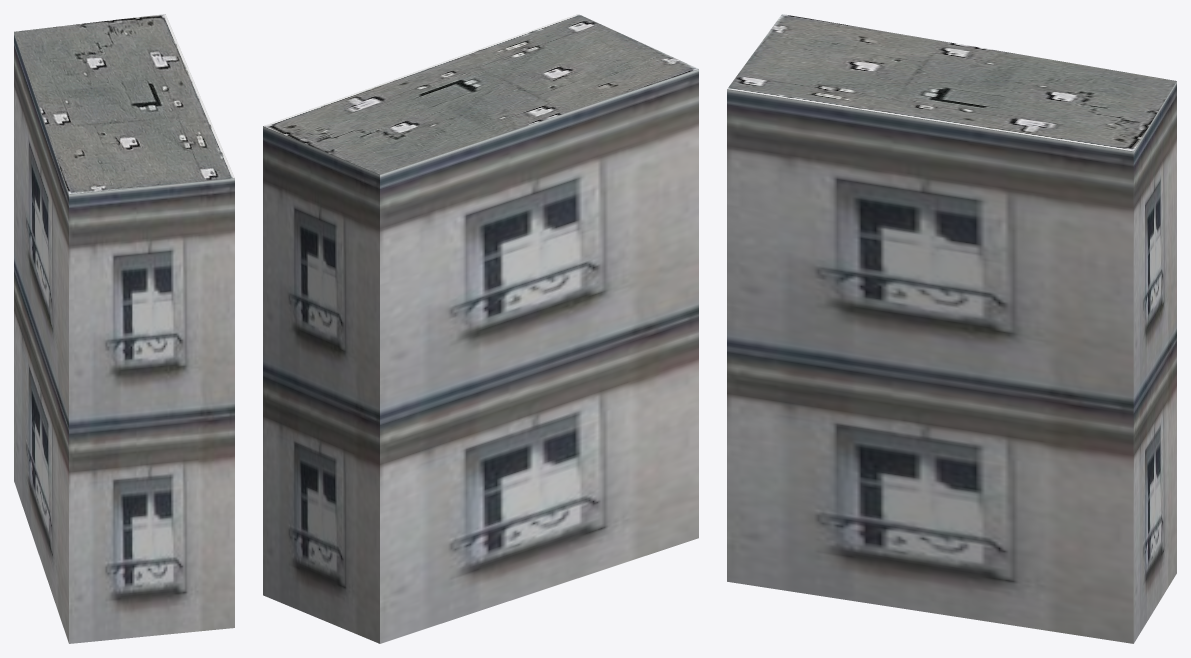
The model's file is RelTex__20.fbx.
3 views of the same model, side by side, from view 1: azimuth 30°, elevation 25°; view 2: azimuth 150°, elevation 25°; view 3: azimuth 270°, elevation 25° (orthographic). The views are drawn at different scales.
Visible parts, largest first — view 1: CityEngineMaterial_12_m, CityEngineMaterial_29_m; view 2: CityEngineMaterial_12_m, CityEngineMaterial_29_m; view 3: CityEngineMaterial_12_m, CityEngineMaterial_29_m.
Boxes of the visible parts, x1,y1,x2,y2 form: CityEngineMaterial_12_m: (14,32,234,643); CityEngineMaterial_29_m: (14,14,234,194); CityEngineMaterial_12_m: (263,69,698,643); CityEngineMaterial_29_m: (263,14,698,174); CityEngineMaterial_12_m: (727,81,1176,643); CityEngineMaterial_29_m: (727,14,1176,151).
Size of the model in its own units: 3.59 by 6 by 4.97.
Materials: 2 (2 with a texture image).
